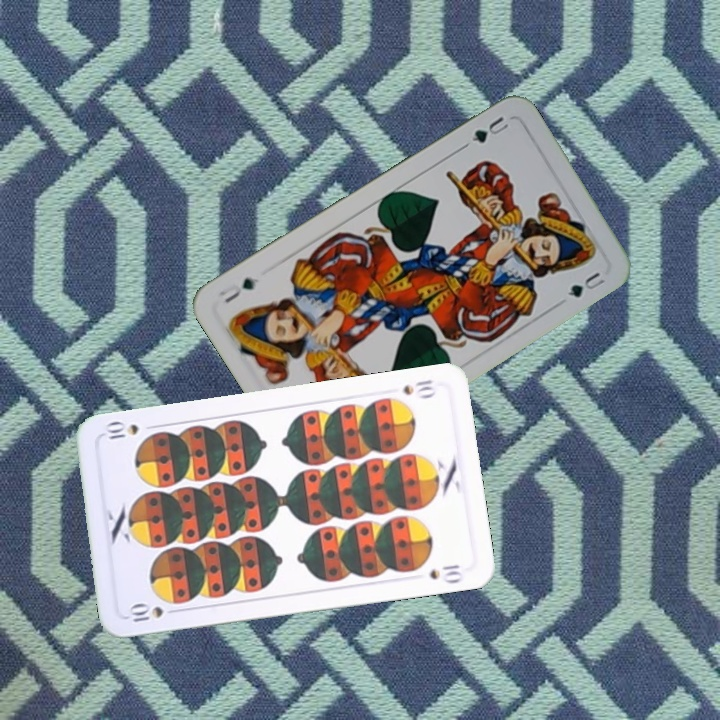GU: (467, 112, 512, 146)
S10: (124, 601, 182, 625), (399, 375, 439, 401)
